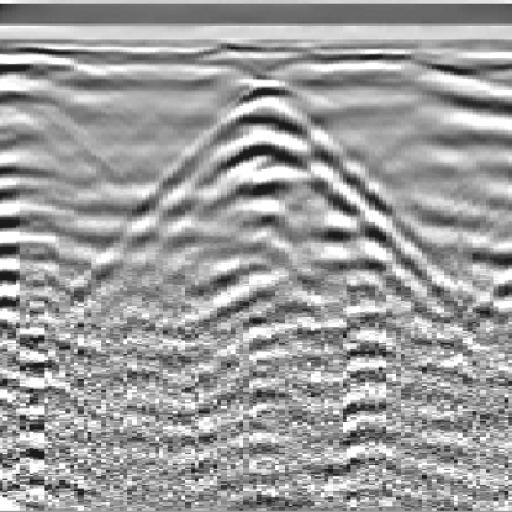metalic: (84, 55, 446, 370)
